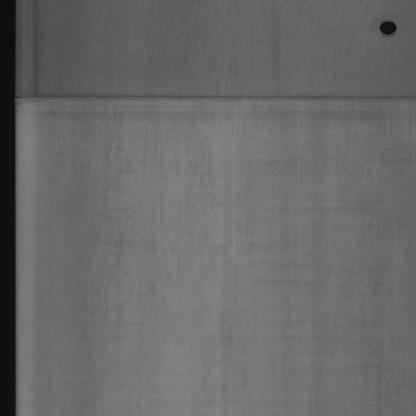punching_hole: (375, 14, 399, 44)
welding_line: (5, 82, 414, 112)
